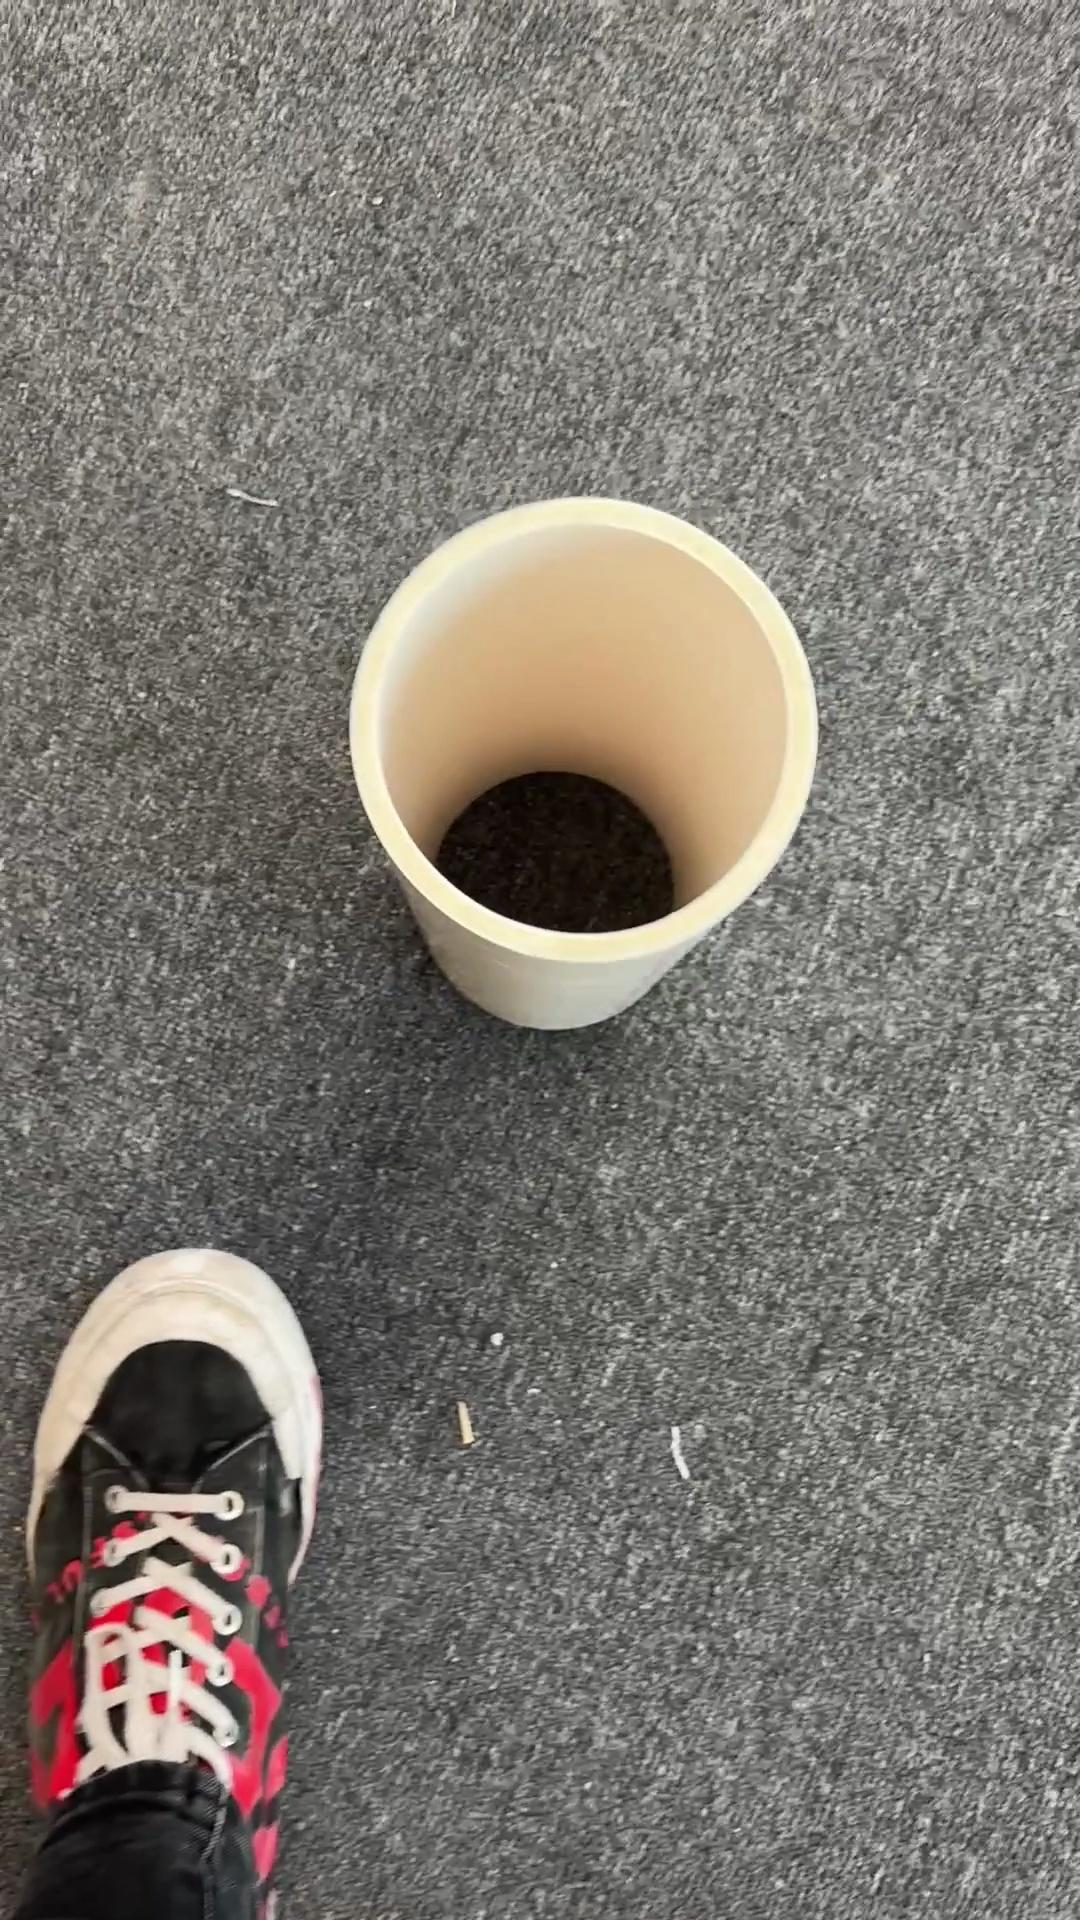CORAL: (345, 491, 822, 1033)
